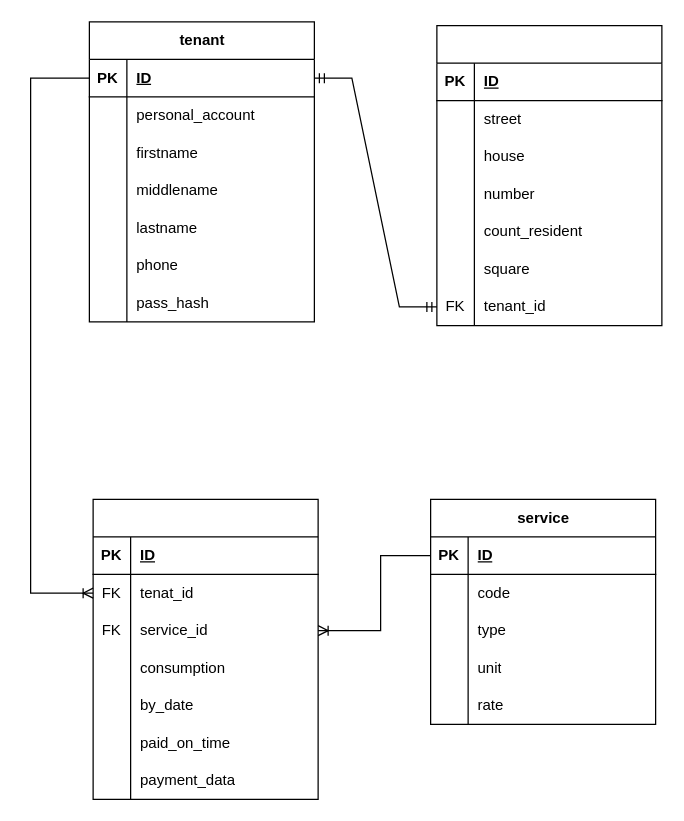
Image size: 684x821. Some labels were removed from this diagram. Here are the shapes that lost their labels. From the top down, the box of each, then its label:
(436, 24, 662, 326): flat
(92, 498, 318, 799): service invoice
